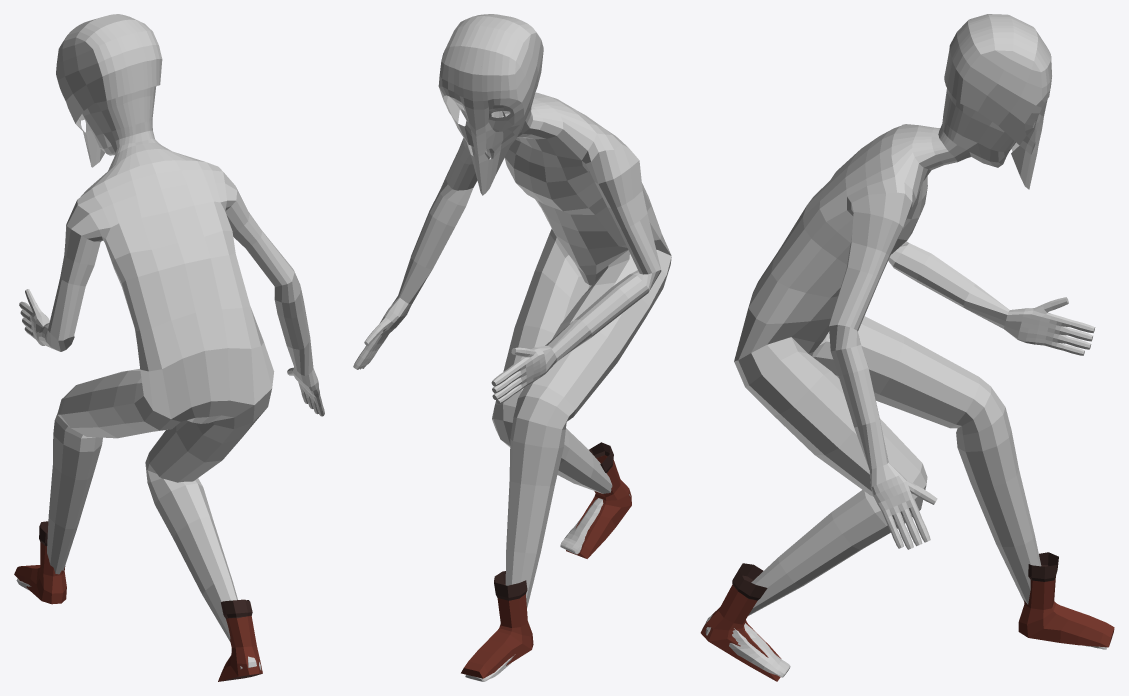
Rendered from saltoadelante_000138.obj.
3 renders of one model, left to right at view 1: azimuth 30°, elevation 25°; view 2: azimuth 150°, elevation 25°; view 3: azimuth 270°, elevation 25°, orthographic. The views are drawn at different scales.
Parts seen in each view (by area): view 1: Plane.002_Plane.001, Plane.003, Plane.004; view 2: Plane.002_Plane.001, Plane.004, Plane.003; view 3: Plane.002_Plane.001, Plane.004, Plane.003.
Part boxes in pixels (x1,y1,x2,y2): Plane.002_Plane.001: (16, 14, 324, 670); Plane.003: (218, 599, 262, 681); Plane.004: (14, 521, 66, 604); Plane.002_Plane.001: (353, 14, 671, 681); Plane.004: (461, 571, 533, 678); Plane.003: (566, 442, 631, 558); Plane.002_Plane.001: (705, 14, 1107, 677); Plane.004: (1018, 552, 1114, 647); Plane.003: (700, 563, 781, 681).
Bounding box in the file's own units: 2.77 × 5.58 × 3.25.
